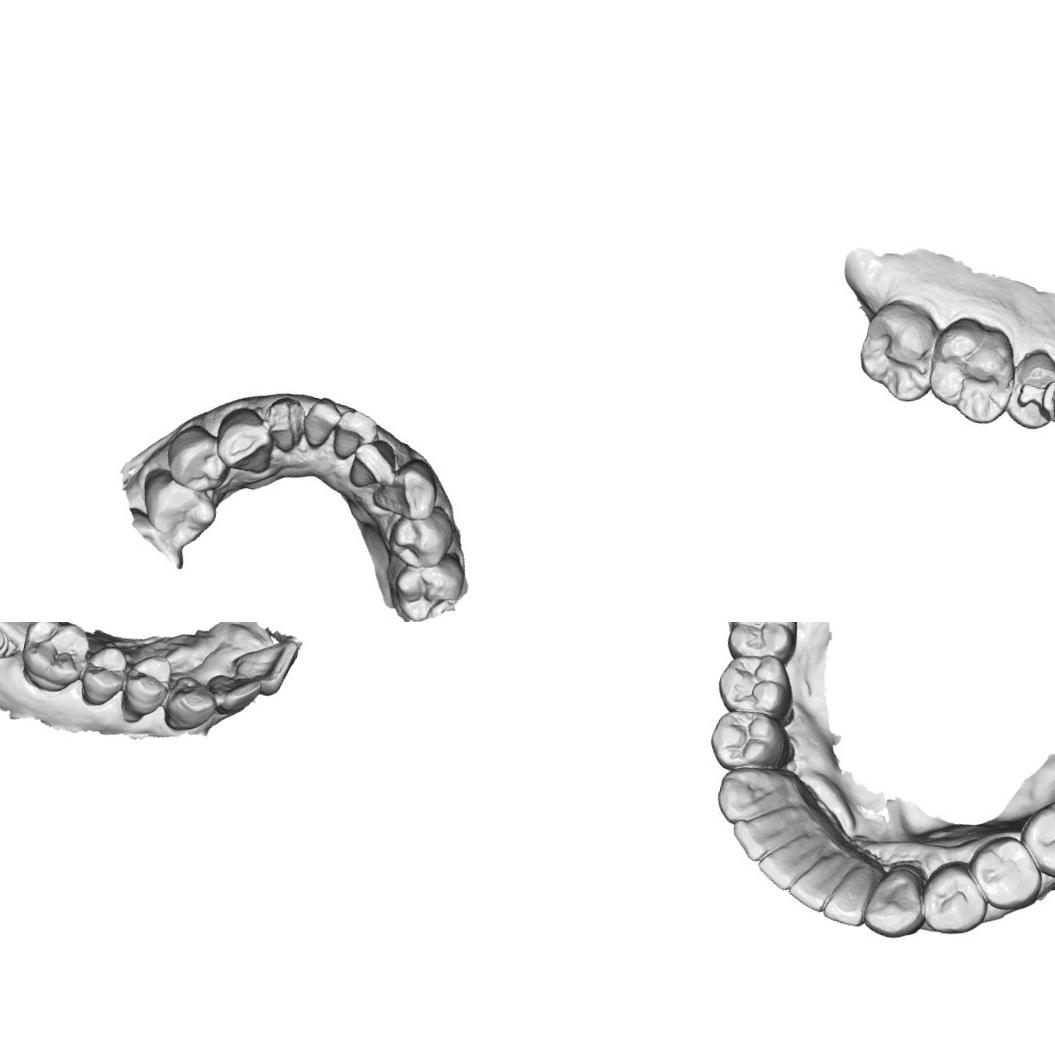canine: (704, 758, 810, 830), (859, 851, 938, 944), (366, 448, 448, 524), (208, 400, 280, 477), (158, 669, 222, 737)
implant: (0, 622, 11, 664)
incisor: (730, 796, 812, 868), (222, 628, 300, 700), (790, 838, 856, 916), (760, 818, 828, 893), (824, 850, 880, 931), (199, 667, 264, 722), (329, 405, 380, 473), (260, 392, 310, 456), (298, 393, 347, 452), (348, 436, 398, 490)
inlay: (1011, 369, 1055, 423)
molar: (920, 309, 1025, 430), (849, 294, 946, 408), (387, 542, 474, 622), (12, 622, 96, 697), (1008, 780, 1055, 889), (722, 622, 808, 667)
premolar: (132, 465, 225, 557), (710, 644, 800, 725), (965, 828, 1047, 916), (916, 854, 997, 942), (701, 700, 790, 774), (380, 496, 460, 574), (158, 420, 238, 496), (117, 647, 176, 722), (75, 639, 130, 712)
